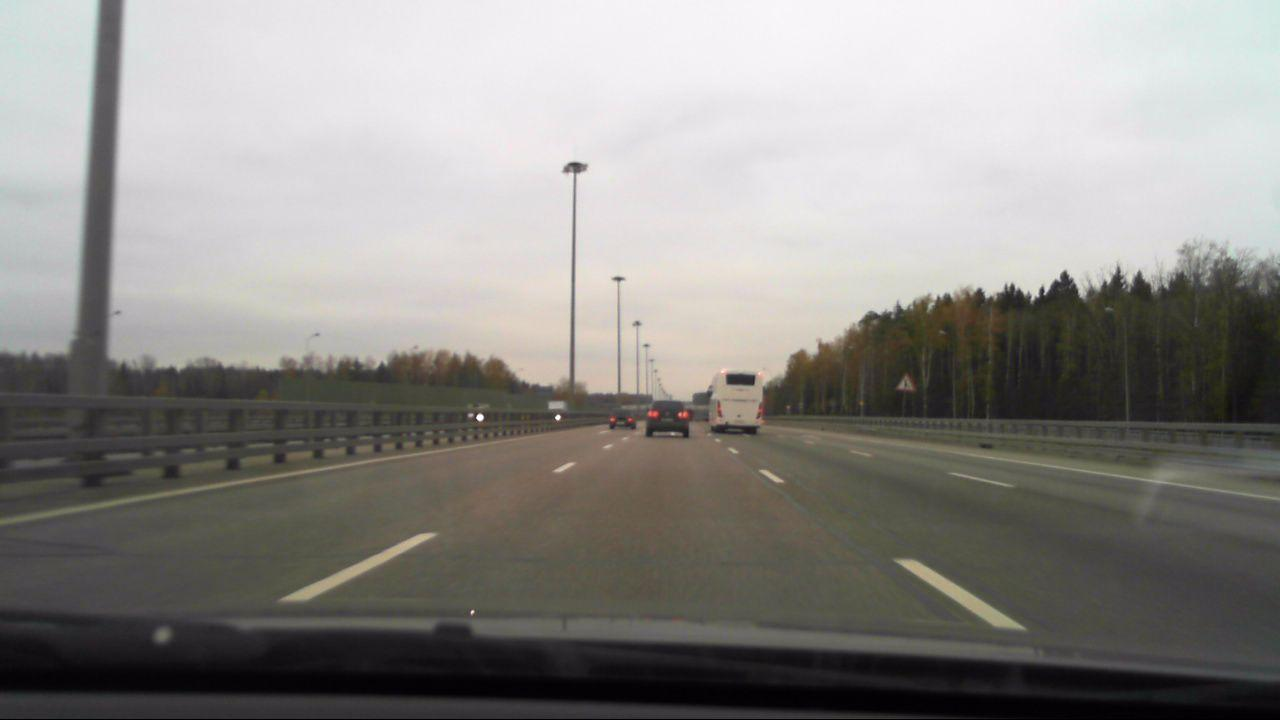2_3_6: (895, 370, 916, 391)
